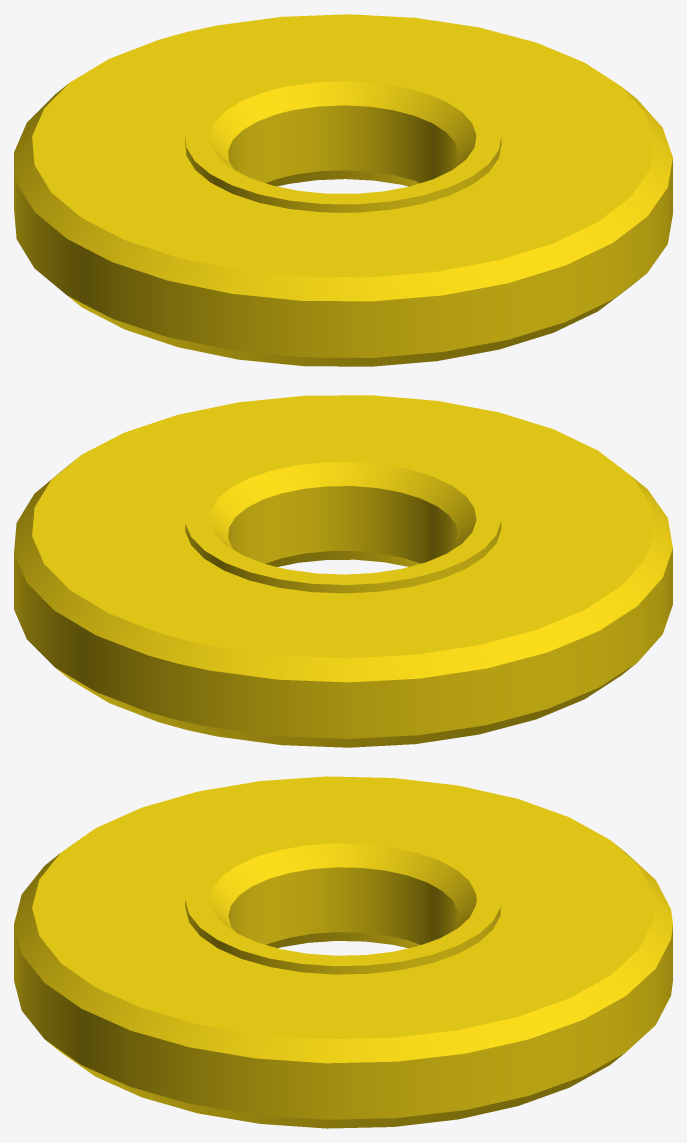
Rendered from A26_W109_pinionInside.gltf.
3 views of the same model, one above another, from view 1: azimuth 30°, elevation 25°; view 2: azimuth 150°, elevation 25°; view 3: azimuth 270°, elevation 25° (orthographic).
Visible parts, largest first — view 1: mesh18373, mesh18375, mesh18374, mesh18369, mesh18371, mesh18370, mesh18376, mesh18372, mesh18368; view 2: mesh18373, mesh18375, mesh18374, mesh18369, mesh18371, mesh18370, mesh18376, mesh18372, mesh18368; view 3: mesh18373, mesh18375, mesh18374, mesh18369, mesh18371, mesh18370, mesh18376, mesh18372, mesh18368.
Part boxes in pixels (box(x1,y1,x2,y2)): mesh18373: box(32, 14, 654, 277); mesh18375: box(14, 154, 672, 357); mesh18374: box(14, 83, 672, 301); mesh18369: box(228, 105, 458, 183); mesh18371: box(185, 70, 501, 204); mesh18370: box(210, 81, 476, 170); mesh18376: box(67, 278, 640, 366); mesh18372: box(185, 137, 501, 212); mesh18368: box(266, 170, 419, 186); mesh18373: box(32, 395, 654, 658); mesh18375: box(14, 548, 672, 738); mesh18374: box(14, 459, 672, 682); mesh18369: box(228, 486, 458, 563); mesh18371: box(185, 451, 501, 584); mesh18370: box(210, 462, 476, 549); mesh18376: box(56, 664, 635, 747); mesh18372: box(185, 522, 501, 593); mesh18368: box(265, 551, 420, 566); mesh18373: box(32, 776, 654, 1039); mesh18375: box(14, 925, 672, 1119); mesh18374: box(14, 842, 672, 1063); mesh18369: box(228, 867, 458, 944); mesh18371: box(185, 832, 500, 966); mesh18370: box(210, 843, 476, 931); mesh18376: box(46, 1040, 624, 1128); mesh18372: box(185, 900, 500, 974); mesh18368: box(266, 932, 420, 948).
Size of the model in its own units: 0.0363 by 0.00594 by 0.0364.
